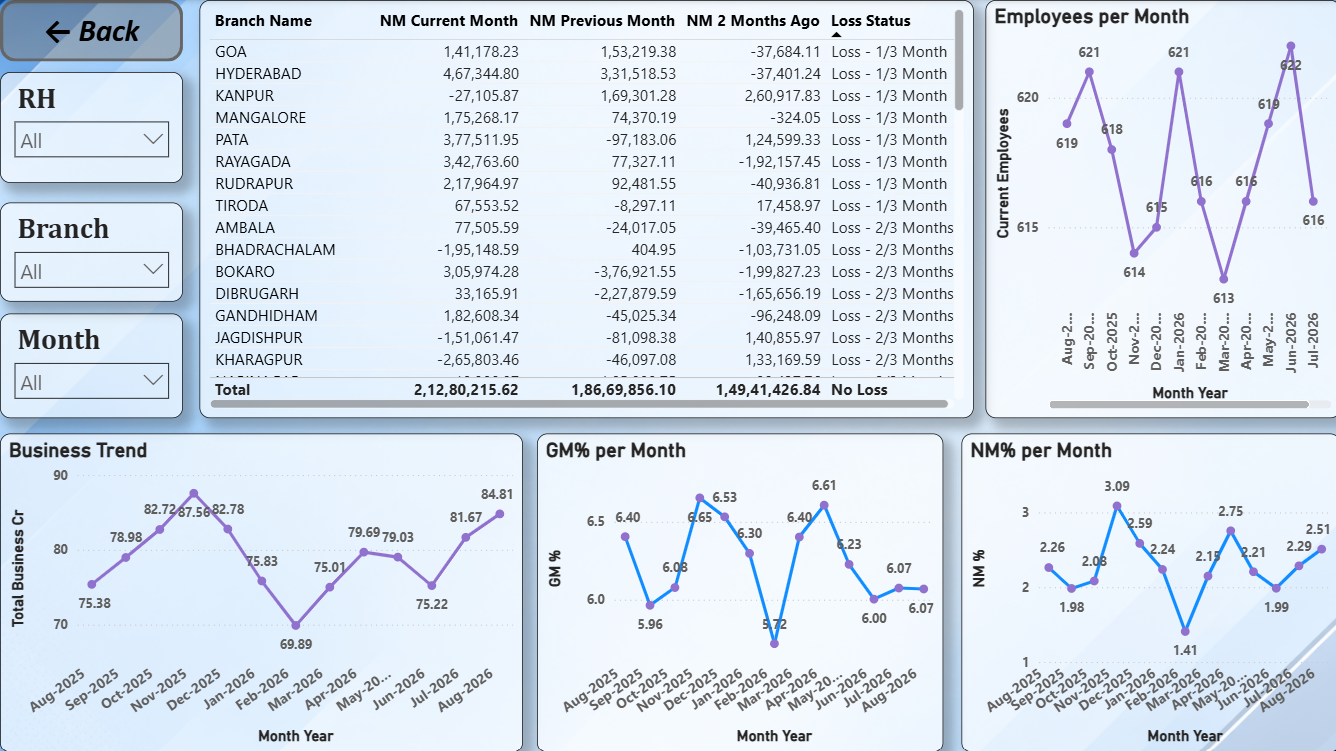

This screenshot's page, from the dashboard's own definition file:
{"tool":"powerbi","page":{"name":"Trend Analysis","canvas":[1280,720],"ordinal":2},"visuals":[{"type":"lineChart","title":"Business Trend","fields":{"Category":["Calendar.Month Year"],"Y":["Measure Table.Total Business Cr"]},"box":[0,414.3,499.6,305.5],"z":0},{"type":"slicer","fields":{"Values":["Calendar.Month Year"]},"box":[0,299.4,174.8,100.3],"z":1000},{"type":"slicer","fields":{"Values":["BranchData.Branch Name "]},"box":[0,193.4,174.8,94.5],"z":2000},{"type":"actionButton","box":[0,0,174.9,58.8],"z":4000},{"type":"lineChart","title":"Employees per Month","fields":{"Category":["Calendar.Month Year"],"Y":["Measure Table.Current Employees"]},"box":[941.1,0,339.5,399.6],"z":5000},{"type":"lineChart","title":"NM% per Month","fields":{"Category":["Calendar.Month Year"],"Y":["Measure Table.NM %"]},"box":[918,414.3,362,305.5],"z":5001},{"type":"lineChart","title":"GM% per Month","fields":{"Category":["Calendar.Month Year"],"Y":["Measure Table.GM %"]},"box":[513.4,414.3,388.1,305.5],"z":5002},{"type":"slicer","fields":{"Values":["BranchData.Regional Head"]},"box":[0,68.8,174.8,106],"z":5003},{"type":"tableEx","fields":{"Values":["BranchData.Branch Name ","Measure Table.NM Current Month","Measure Table.NM Previous Month","Measure Table.NM 2 Months Ago","Measure Table.Loss Status - Last 3 Months"]},"box":[190.5,0,739.1,399.6],"z":5004}]}

Visuals, with their boxes in screenshot pixels (x1, y1, x2, y2), scaled from the page's 1280x720 canvas onto the 1336x751 screenshot:
"Business Trend" lineChart: [left=0, top=432, right=521, bottom=750]
slicer - Calendar.Month Year: [left=0, top=312, right=182, bottom=417]
slicer - BranchData.Branch Name : [left=0, top=202, right=182, bottom=300]
actionButton: [left=0, top=0, right=183, bottom=61]
"Employees per Month" lineChart: [left=982, top=0, right=1335, bottom=417]
"NM% per Month" lineChart: [left=958, top=432, right=1335, bottom=750]
"GM% per Month" lineChart: [left=536, top=432, right=941, bottom=750]
slicer - BranchData.Regional Head: [left=0, top=72, right=182, bottom=182]
tableEx - BranchData.Branch Name  x Measure Table.NM Current Month: [left=199, top=0, right=970, bottom=417]
